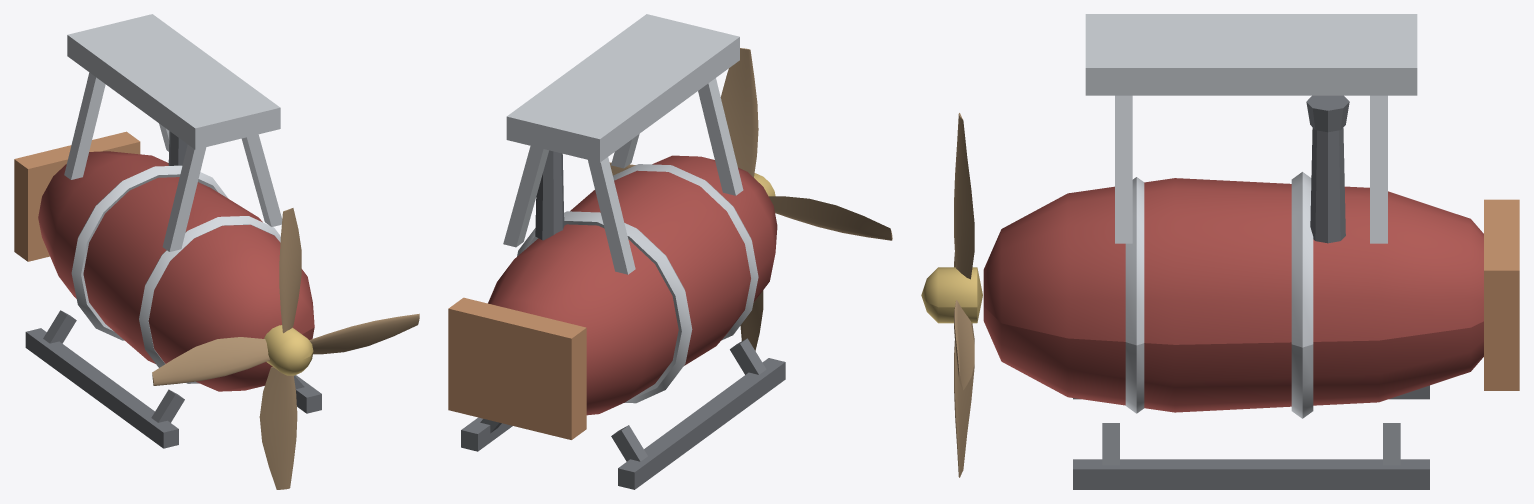
File: steampunk-airship-dock-and-workshop-airship-engine-pod-42a81a7f__36044.glb
The picture shows the model from 3 angles, left to right: view 1: azimuth 30°, elevation 25°; view 2: azimuth 150°, elevation 25°; view 3: azimuth 270°, elevation 25°; orthographic projection. The views are drawn at different scales.
Visible parts, largest first — view 1: airship-engine-pod-crimson, prop-airscrew/timber, prop-airscrew/brass; view 2: airship-engine-pod-crimson, prop-airscrew/timber; view 3: airship-engine-pod-crimson, prop-airscrew/timber, prop-airscrew/brass.
Part boxes in pixels (x1,y1,x2,y2): airship-engine-pod-crimson: [14, 14, 321, 448]; prop-airscrew/timber: [152, 208, 419, 489]; prop-airscrew/brass: [264, 325, 313, 375]; airship-engine-pod-crimson: [448, 14, 785, 489]; prop-airscrew/timber: [609, 48, 892, 350]; airship-engine-pod-crimson: [983, 14, 1519, 489]; prop-airscrew/timber: [954, 113, 974, 477]; prop-airscrew/brass: [921, 267, 982, 323].
Size of the model in its own units: 1.56 by 1.88 by 2.35.
